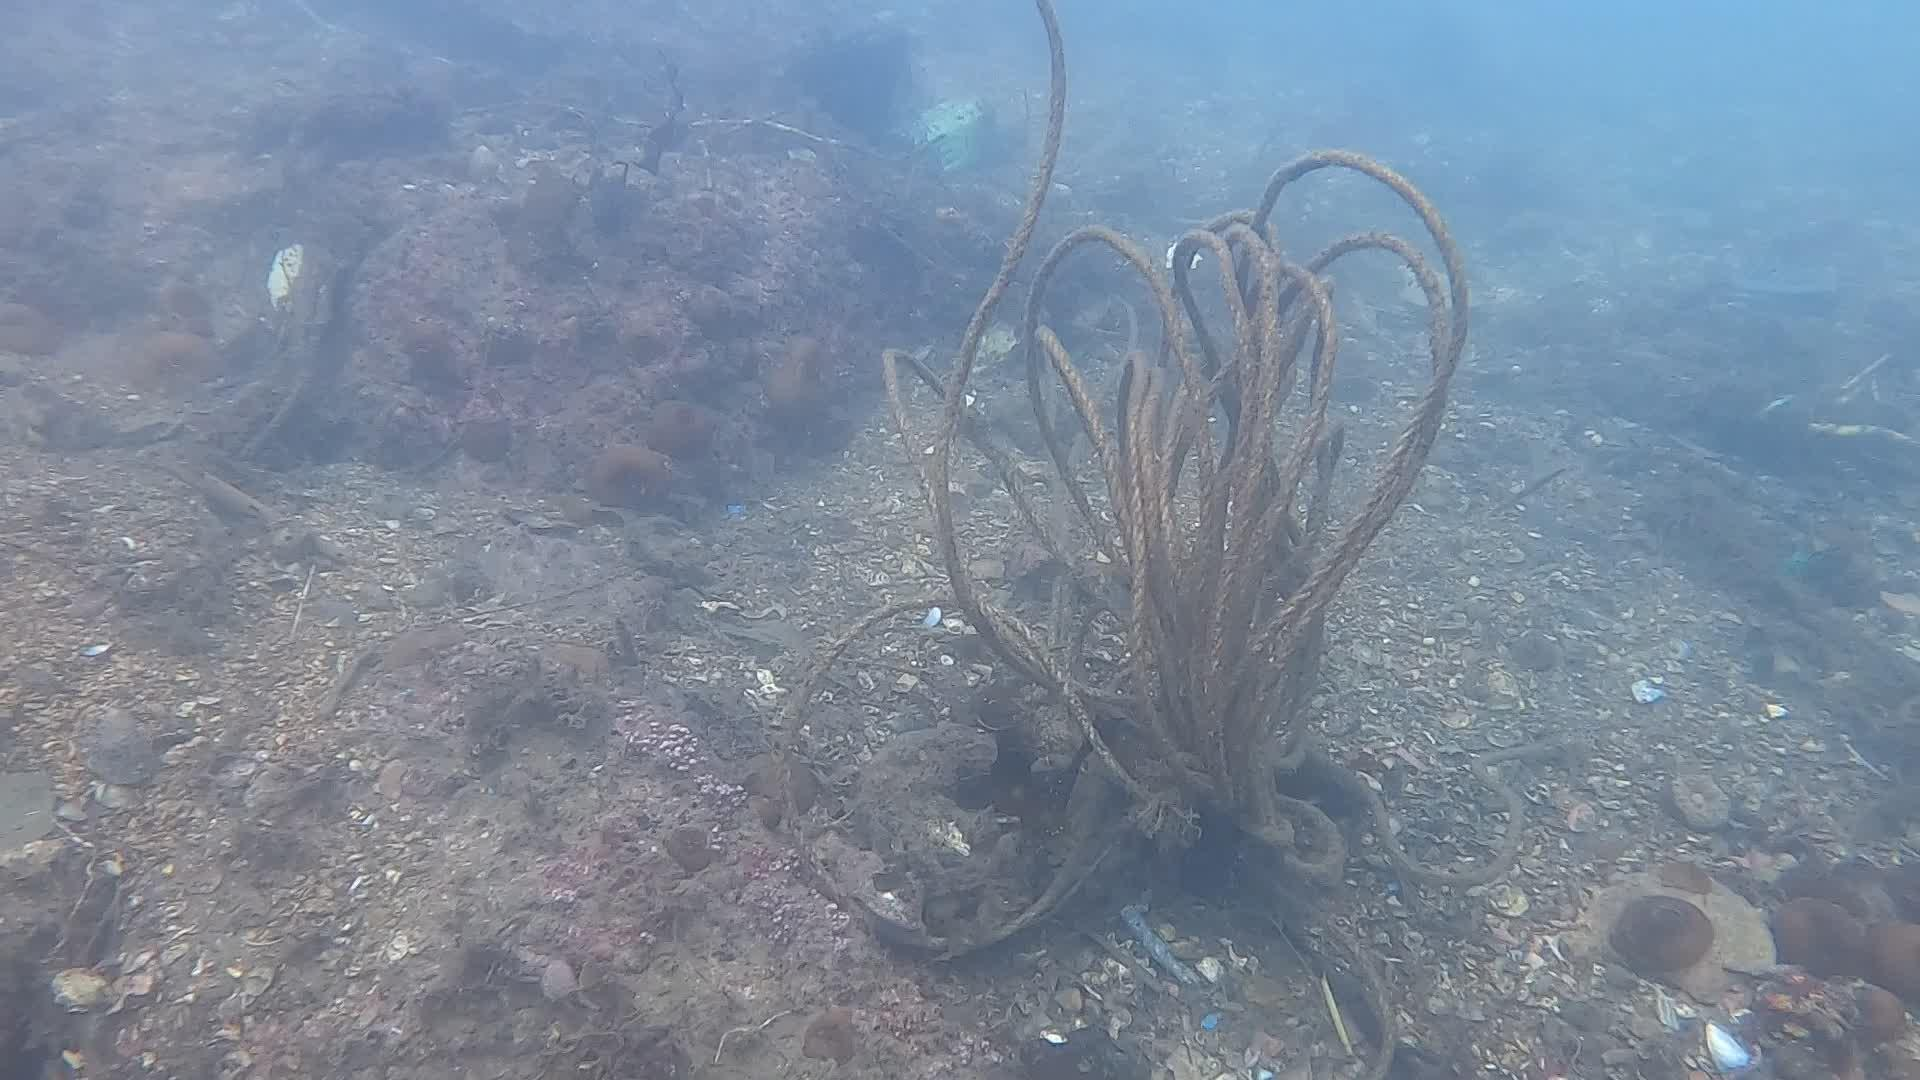bundle of ropes: (777, 0, 1474, 1080)
